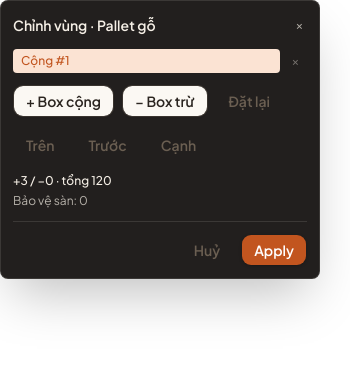
Test case: Apply và Huỷ › 422: hiện câu của máy chủ
Expected: the text "+3 / −0 · tổng 120" is shown, [13,173,112,188]
Click the button "Apply". click: coordinates (274, 250)
box: [241,234,307,266]
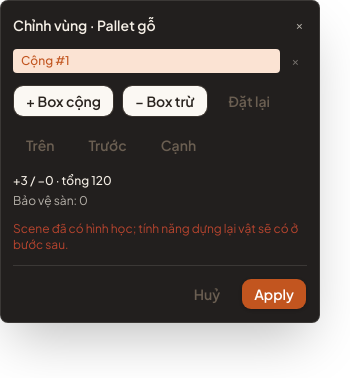
Now the message shows "Scene đã có hình học", box [13,221,298,252]
